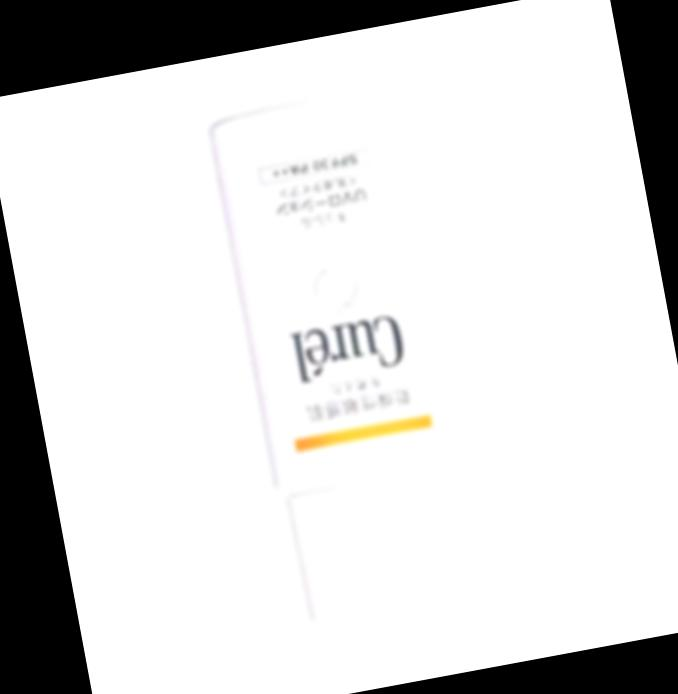cosmetic: (207, 90, 493, 630)
